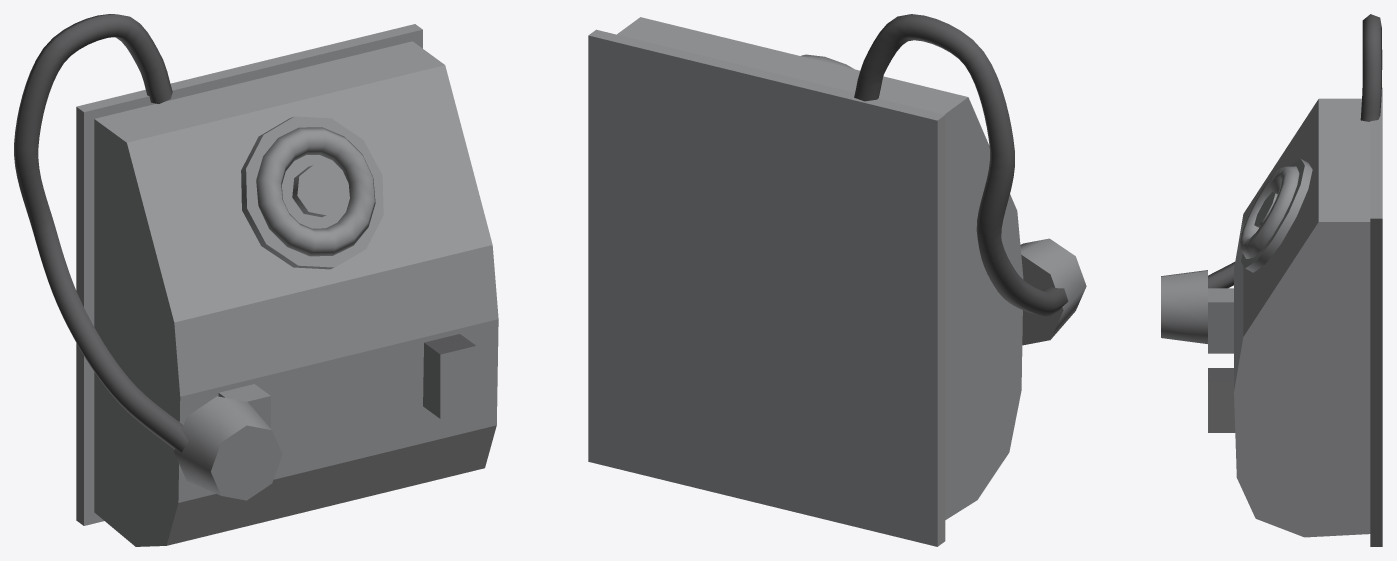
3 views of the same model, side by side, from view 1: azimuth 30°, elevation 25°; view 2: azimuth 150°, elevation 25°; view 3: azimuth 270°, elevation 25° (orthographic). The views are drawn at different scales.
Size of the model in its own units: 0.4079 by 0.4702 by 0.2841.
